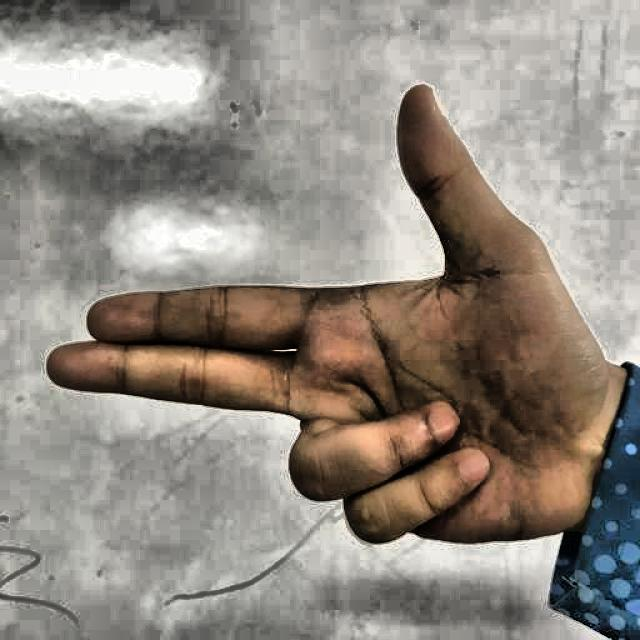Jha: (39, 46, 602, 590)
